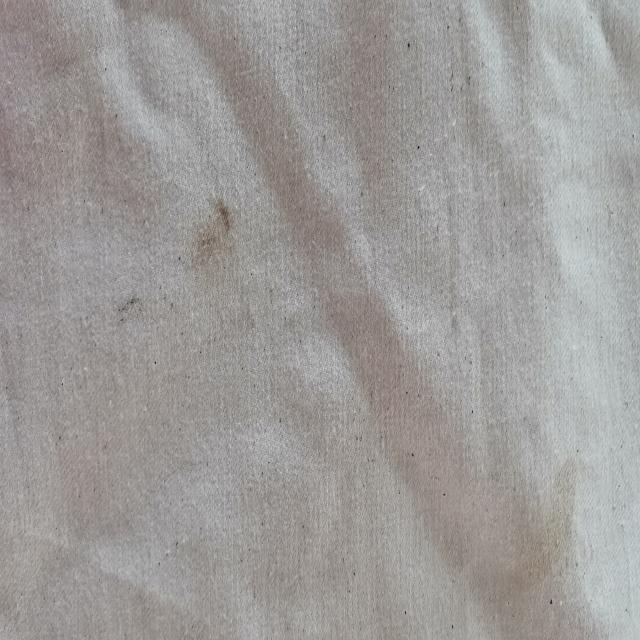taaaches: (175, 178, 244, 296), (110, 277, 146, 347)
